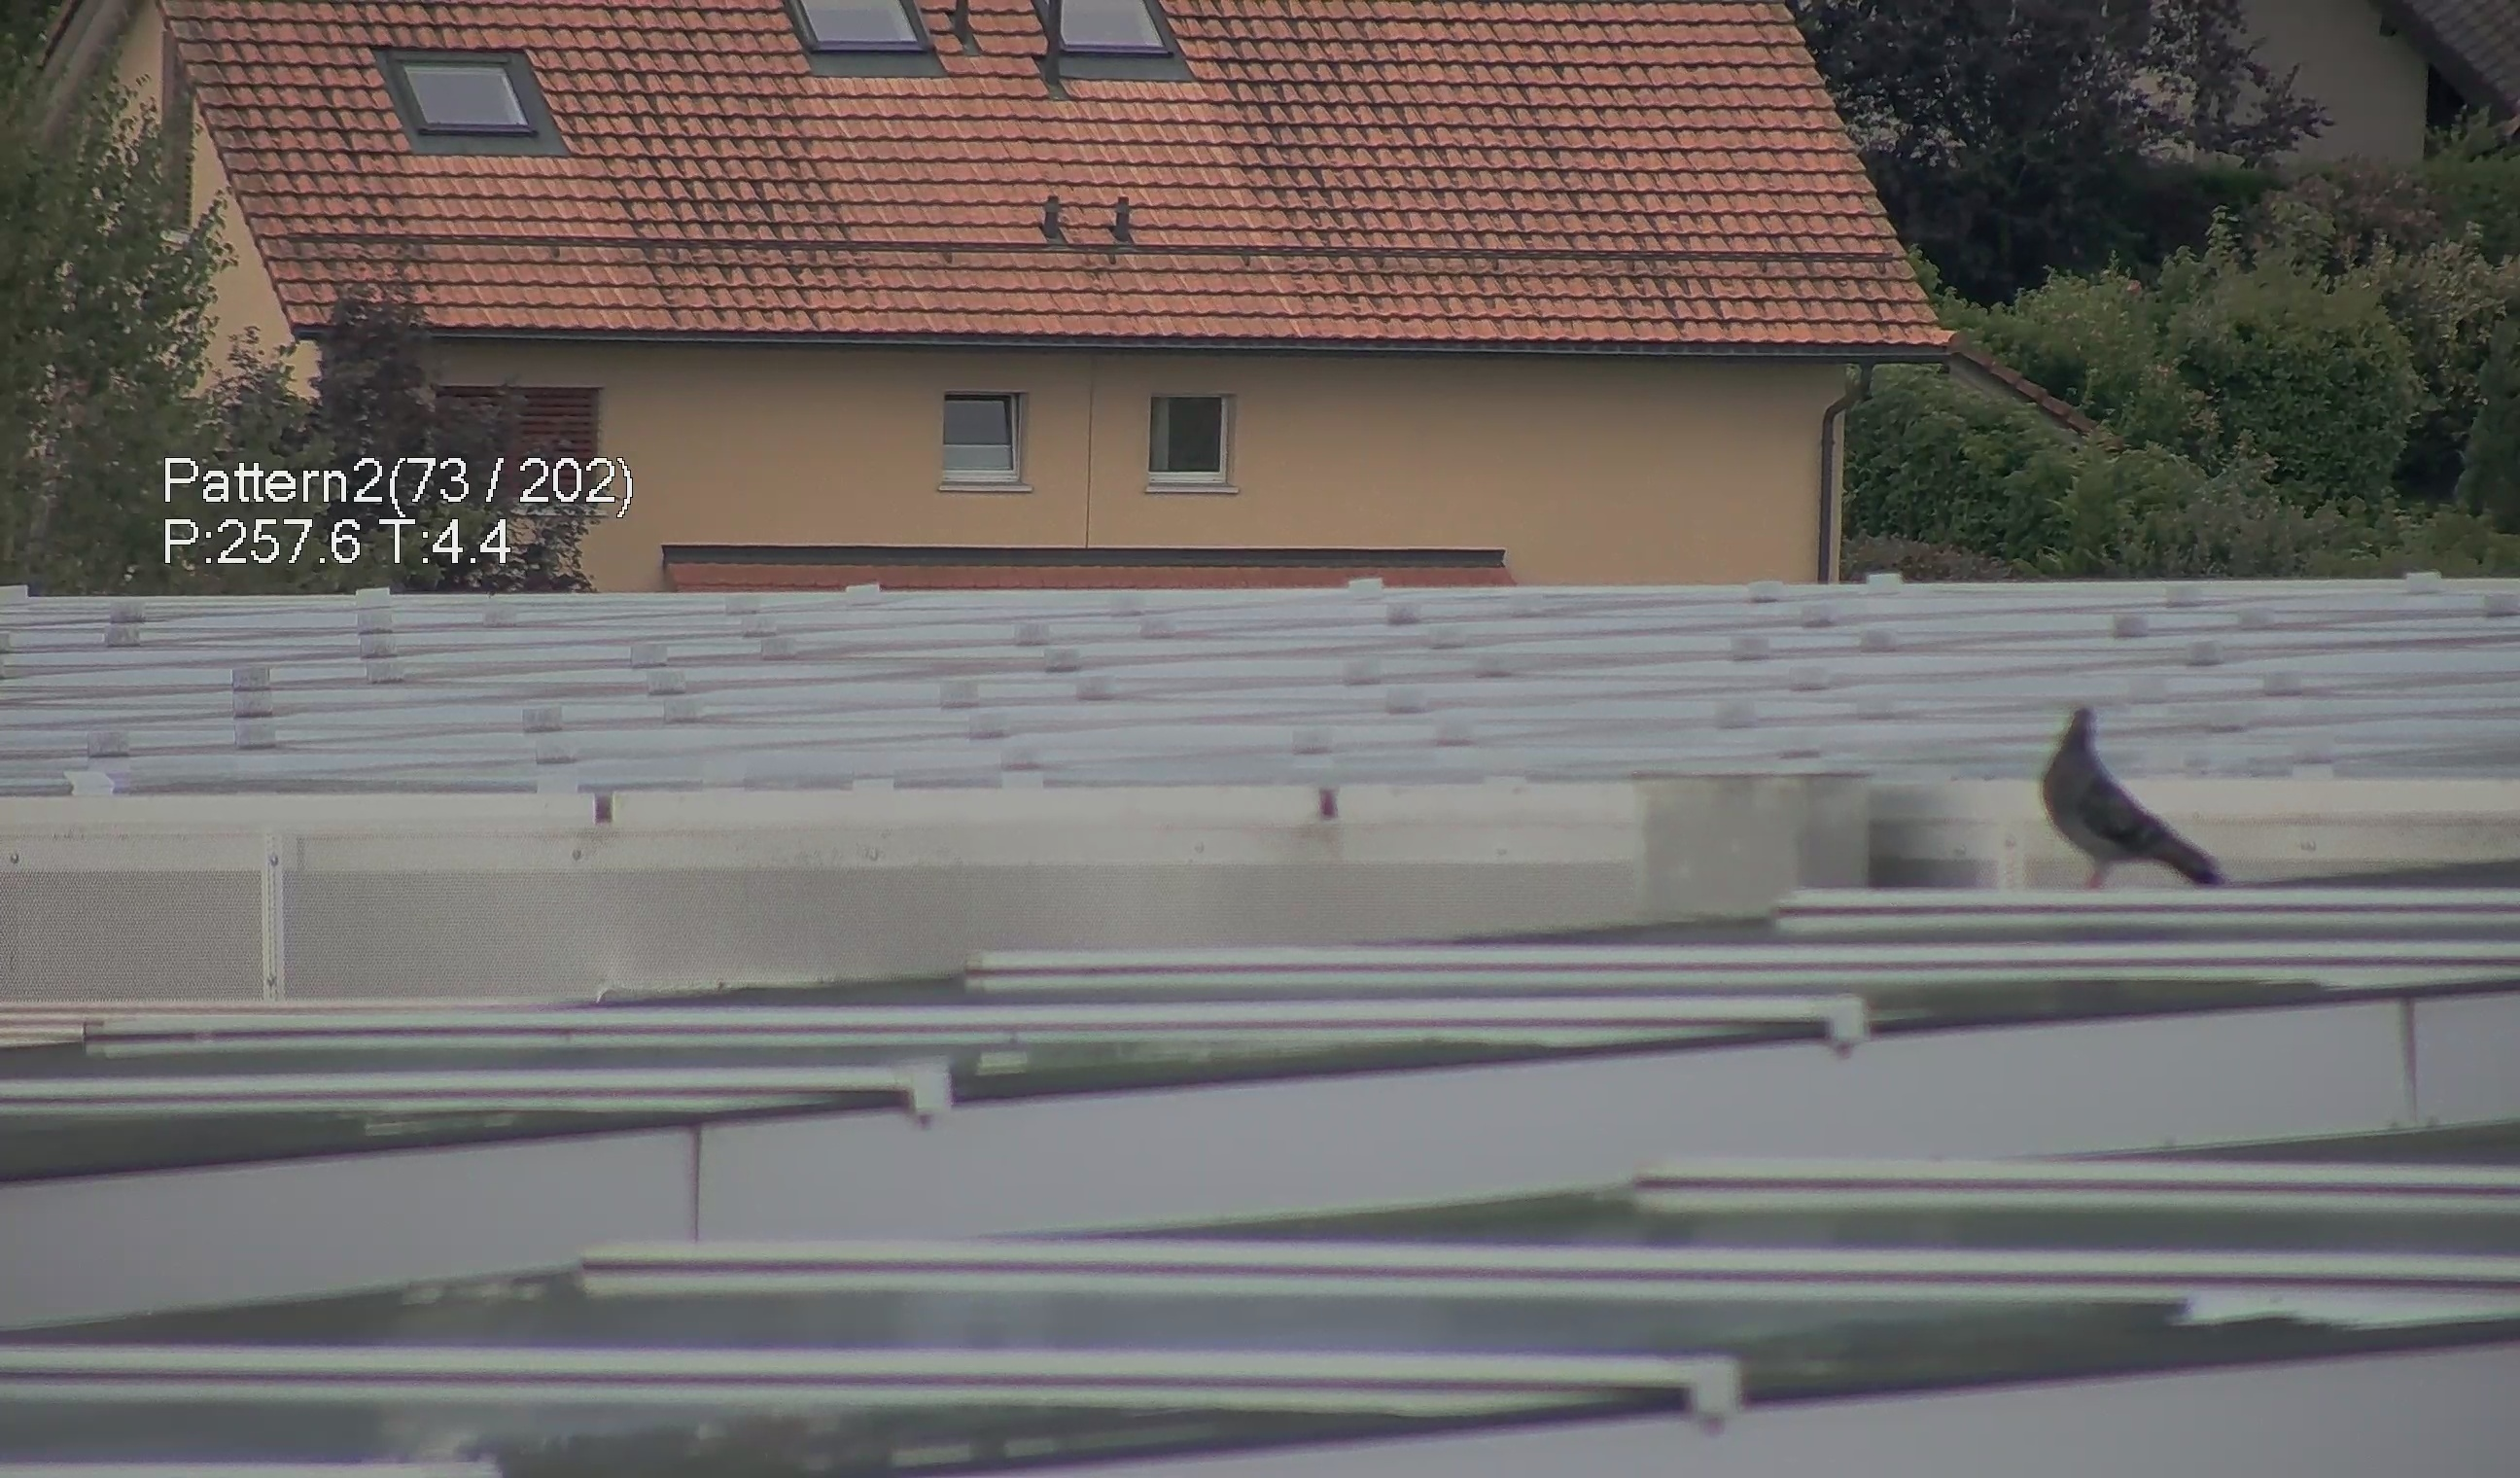Pigeon: (2036, 693, 2230, 911)
